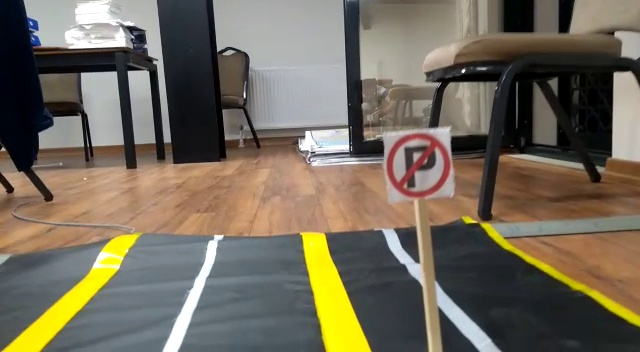park_yapilmaz: (382, 131, 453, 198)
